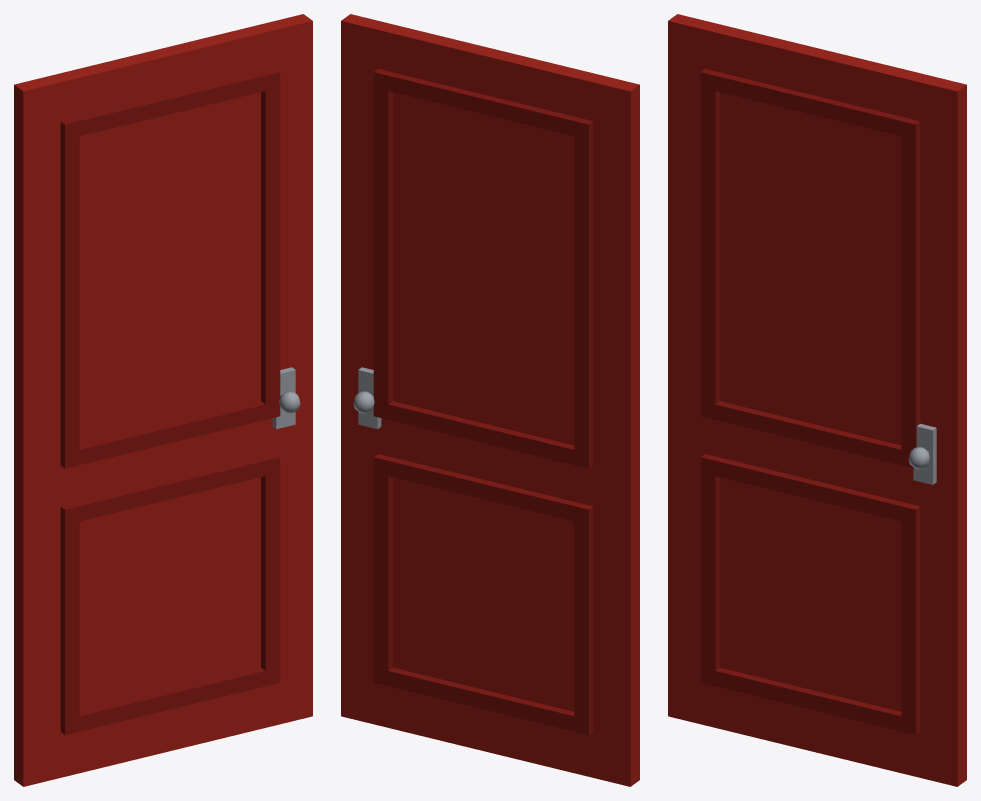
The model's file is SM_Door_slifer_90x205.fbx.
3 renders of one model, left to right at view 1: azimuth 30°, elevation 25°; view 2: azimuth 150°, elevation 25°; view 3: azimuth 330°, elevation 25°, orthographic.
Visible parts, largest first — view 1: SM_Door_slifer_90x205; view 2: SM_Door_slifer_90x205; view 3: SM_Door_slifer_90x205.
Boxes of the visible parts, left/top/right/bottom form: SM_Door_slifer_90x205: left=14, top=14, right=312, bottom=786; SM_Door_slifer_90x205: left=341, top=14, right=639, bottom=786; SM_Door_slifer_90x205: left=668, top=14, right=966, bottom=786.
Bounding box in the file's own units: 0.888 × 2.04 × 0.19.
